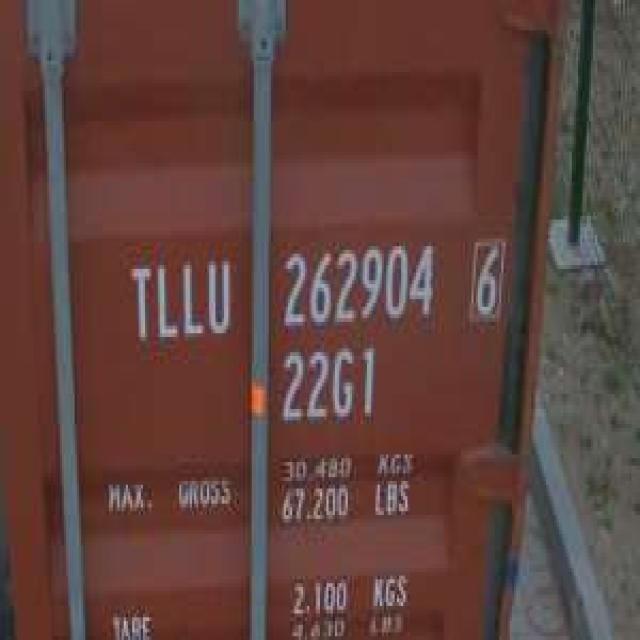dv: (466, 233, 505, 325)
owner: (126, 252, 234, 351)
serial: (277, 234, 443, 332)
size: (277, 340, 379, 427)
